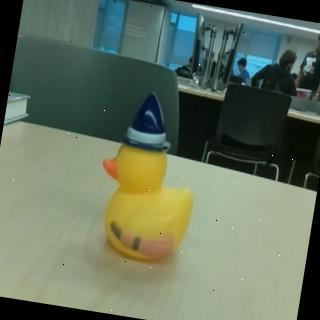duck_specialty: (87, 85, 212, 269)
